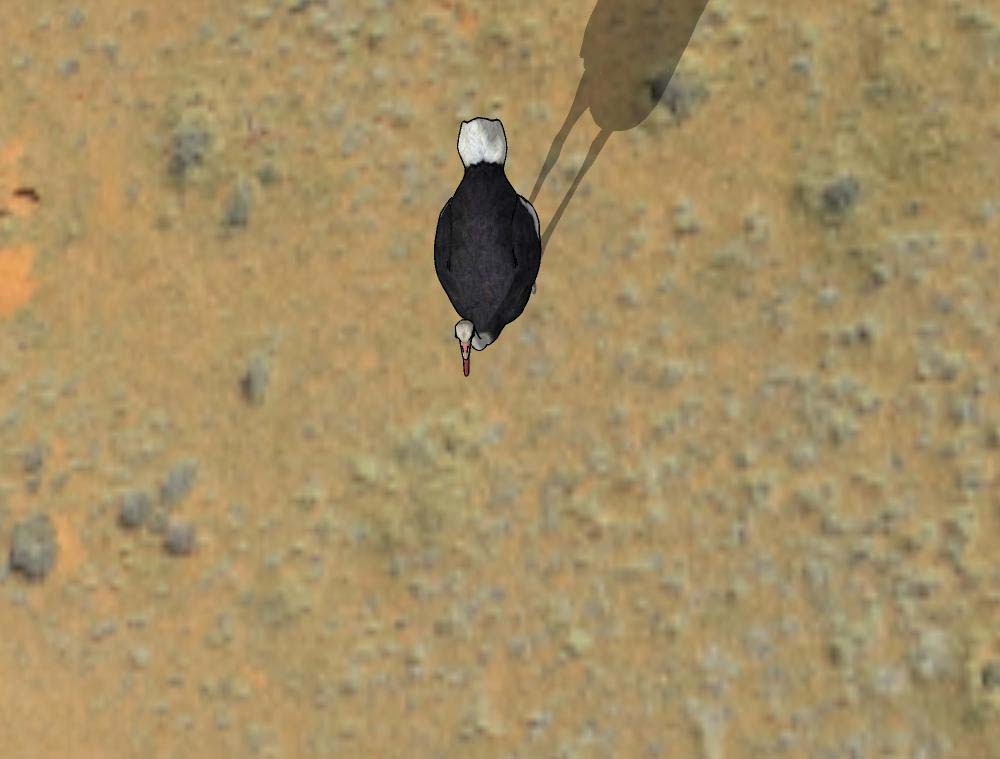ostrich: (421, 113, 555, 381)
